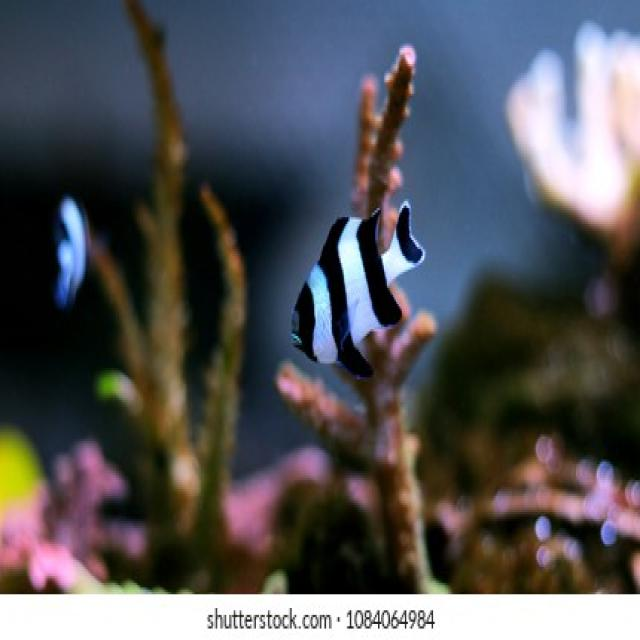ThreeStripedDamselfish: (290, 206, 424, 377)
